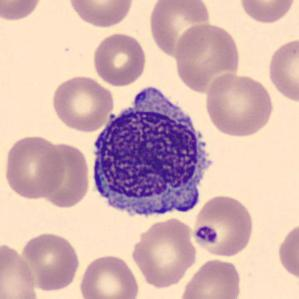Monocyte: (86, 81, 221, 225)
Platelets: (193, 224, 220, 246)
RBC: (172, 20, 242, 94), (130, 216, 198, 289), (202, 71, 275, 138), (190, 192, 256, 258), (3, 133, 66, 201), (37, 139, 92, 210), (50, 73, 115, 133), (147, 0, 213, 59), (19, 230, 81, 292), (90, 32, 148, 88), (77, 252, 141, 299), (178, 257, 244, 299), (0, 239, 39, 299), (266, 36, 299, 104), (66, 0, 136, 29), (237, 0, 298, 25), (276, 218, 298, 284), (0, 0, 45, 22)
